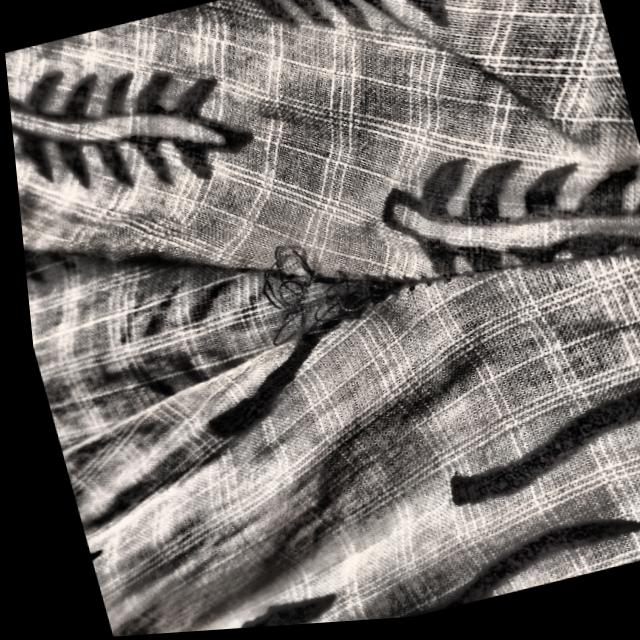Stitch: (252, 201, 455, 374)
